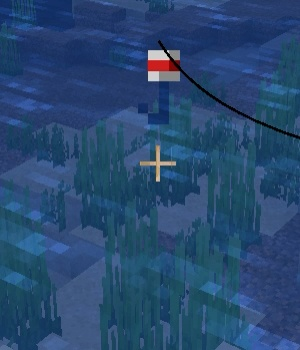up: (132, 45, 186, 137)
